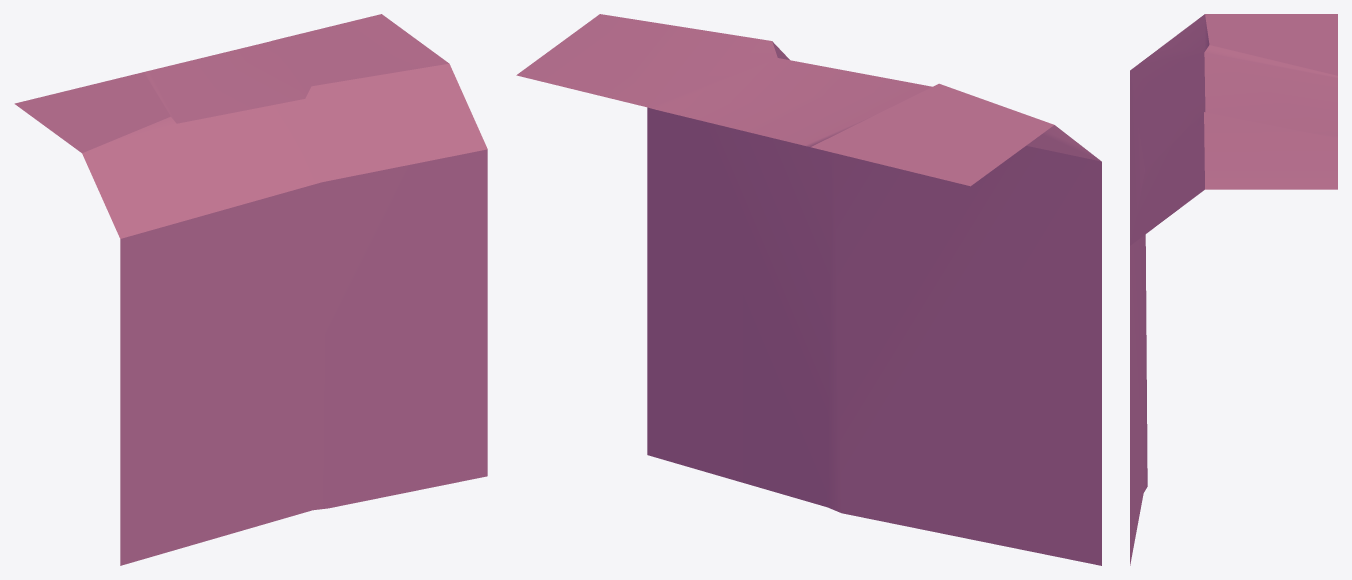
The model's file is Module_Wall_In_2x2_Mesh_v01.fbx.
3 views of the same model, side by side, from view 1: azimuth 30°, elevation 25°; view 2: azimuth 150°, elevation 25°; view 3: azimuth 270°, elevation 25° (orthographic). The views are drawn at different scales.
Visible parts, largest first — view 1: Module_Wall_In_2x2_Mesh_v01; view 2: Module_Wall_In_2x2_Mesh_v01; view 3: Module_Wall_In_2x2_Mesh_v01.
Part boxes in pixels (bbox=[...]): Module_Wall_In_2x2_Mesh_v01: bbox=[14, 14, 487, 565]; Module_Wall_In_2x2_Mesh_v01: bbox=[516, 14, 1101, 565]; Module_Wall_In_2x2_Mesh_v01: bbox=[1130, 14, 1337, 565].
Size of the model in its own units: 400 by 413 by 200.
